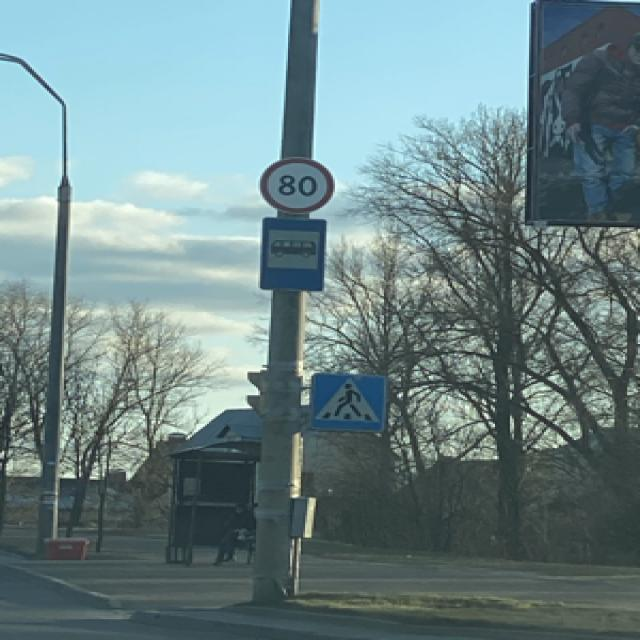crosswalk: (305, 370, 384, 430)
speedlimit: (254, 157, 331, 213)
